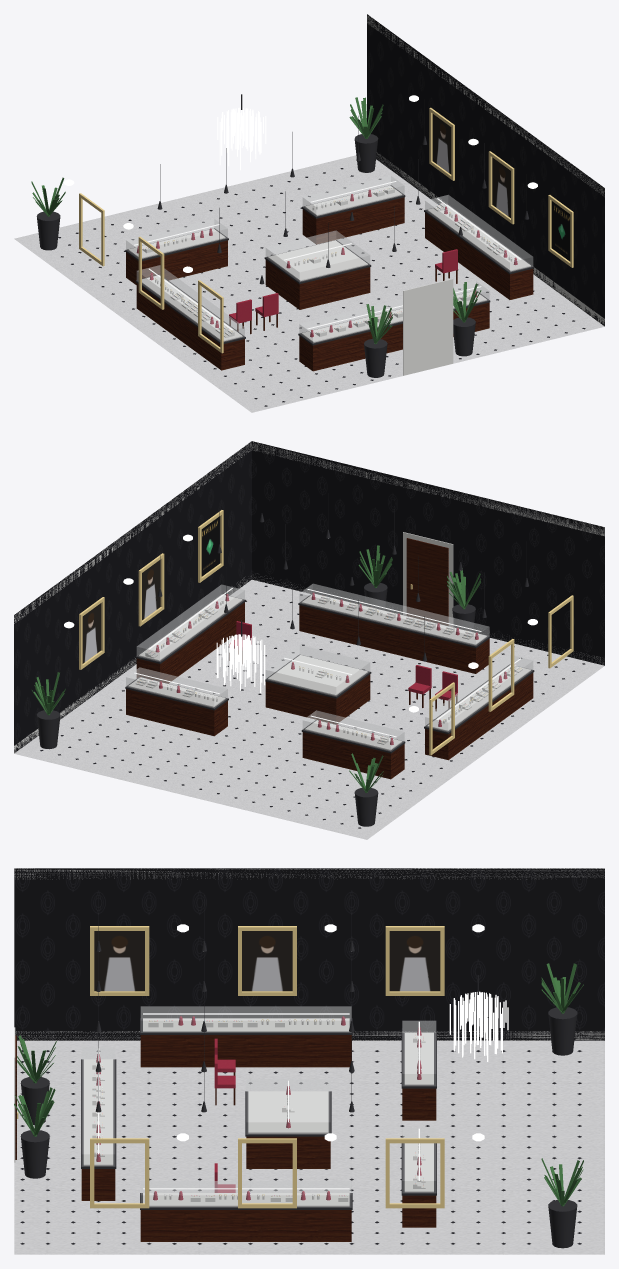
Rendered from joalheria.gltf.
3 renders of one model, top to bottom at view 1: azimuth 30°, elevation 25°; view 2: azimuth 150°, elevation 25°; view 3: azimuth 270°, elevation 25°, orthographic. The views are drawn at different scales.
Visible parts, largest first — view 1: joalheria_piso, joalheria_parede, joalheria_madeira, joalheria_vidro, joalheria_bandeja, joalheria_moldura_branca, joalheria_escuro, joalheria_ouro, joalheria_quadro, joalheria_planta, joalheria_cristal, joalheria_veludo (+2 smaller); view 2: joalheria_parede, joalheria_piso, joalheria_madeira, joalheria_vidro, joalheria_bandeja, joalheria_escuro, joalheria_moldura_branca, joalheria_ouro, joalheria_quadro, joalheria_planta, joalheria_cristal, joalheria_veludo (+2 smaller); view 3: joalheria_piso, joalheria_parede, joalheria_vidro, joalheria_madeira, joalheria_bandeja, joalheria_escuro, joalheria_quadro, joalheria_ouro, joalheria_cristal, joalheria_planta, joalheria_moldura_branca, joalheria_losango (+2 smaller).
Boxes of the visible parts, <box> form: joalheria_piso: <box>14,155,604,412</box>; joalheria_parede: <box>367,14,604,326</box>; joalheria_madeira: <box>126,197,533,371</box>; joalheria_vidro: <box>126,175,533,343</box>; joalheria_bandeja: <box>128,185,530,342</box>; joalheria_moldura_branca: <box>367,15,604,375</box>; joalheria_escuro: <box>36,94,534,377</box>; joalheria_ouro: <box>79,107,573,353</box>; joalheria_quadro: <box>432,114,570,261</box>; joalheria_planta: <box>31,97,481,344</box>; joalheria_cristal: <box>64,95,537,272</box>; joalheria_veludo: <box>136,189,517,337</box>; joalheria_parede: <box>14,441,604,752</box>; joalheria_piso: <box>14,579,604,839</box>; joalheria_madeira: <box>126,538,533,779</box>; joalheria_vidro: <box>126,583,533,751</box>; joalheria_bandeja: <box>128,594,530,750</box>; joalheria_escuro: <box>36,493,534,826</box>; joalheria_moldura_branca: <box>14,441,604,753</box>; joalheria_ouro: <box>79,510,573,755</box>; joalheria_quadro: <box>82,516,220,663</box>; joalheria_planta: <box>32,545,480,792</box>; joalheria_cristal: <box>64,534,537,712</box>; joalheria_veludo: <box>155,592,507,745</box>; joalheria_piso: <box>14,1040,604,1254</box>; joalheria_parede: <box>14,868,604,1040</box>; joalheria_vidro: <box>81,1006,436,1207</box>; joalheria_madeira: <box>15,1035,436,1241</box>; joalheria_bandeja: <box>83,1018,433,1206</box>; joalheria_escuro: <box>21,895,577,1248</box>; joalheria_quadro: <box>94,931,440,991</box>; joalheria_ouro: <box>17,926,444,1208</box>; joalheria_cristal: <box>177,924,508,1141</box>; joalheria_planta: <box>14,963,583,1206</box>; joalheria_moldura_branca: <box>14,868,604,1162</box>; joalheria_losango: <box>20,1050,581,1244</box>.
Size of the model in its own units: 12.02 by 4.5 by 14.
20 materials, 5 textured.
